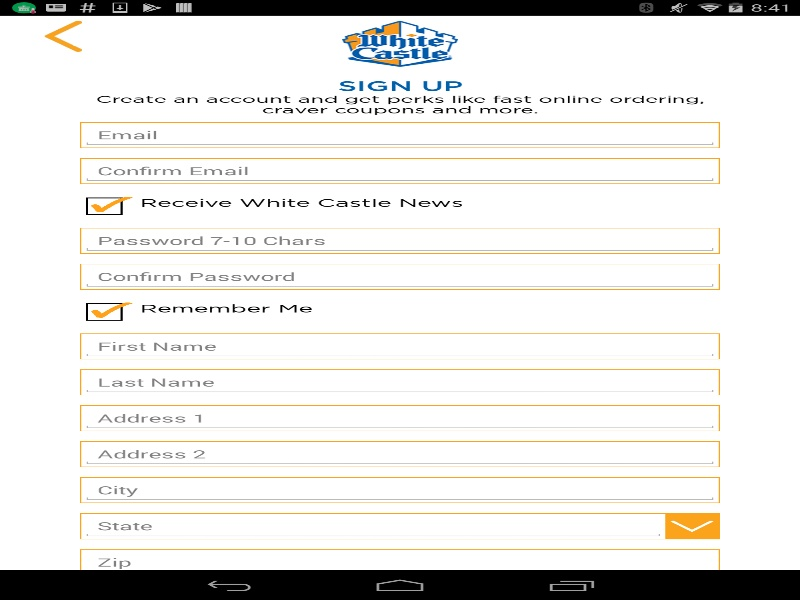Input: (81, 122, 718, 147), (81, 158, 718, 183), (81, 228, 718, 253), (81, 264, 718, 289), (81, 405, 718, 430), (81, 441, 718, 466), (81, 477, 718, 502), (81, 334, 718, 358), (81, 370, 718, 394), (81, 550, 718, 574), (81, 513, 665, 538)
